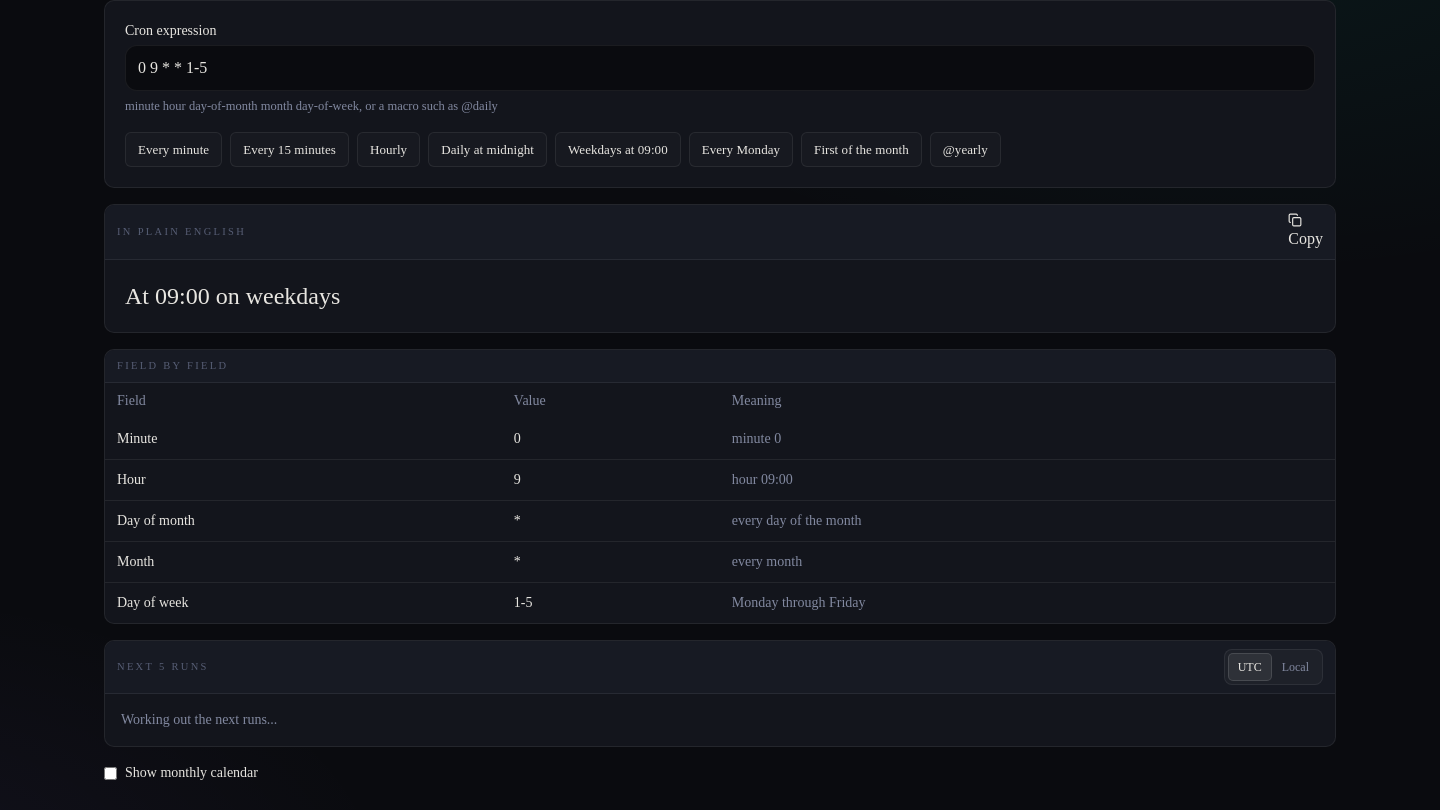
CronExplainerClient › errors › says how many fields it found
The width and height of the screenshot is (1440, 810).
Replace the text in the field labelled "Cron expression" with "* * * *" at (720, 68), box top-left (125, 45), bottom-right (1315, 91)
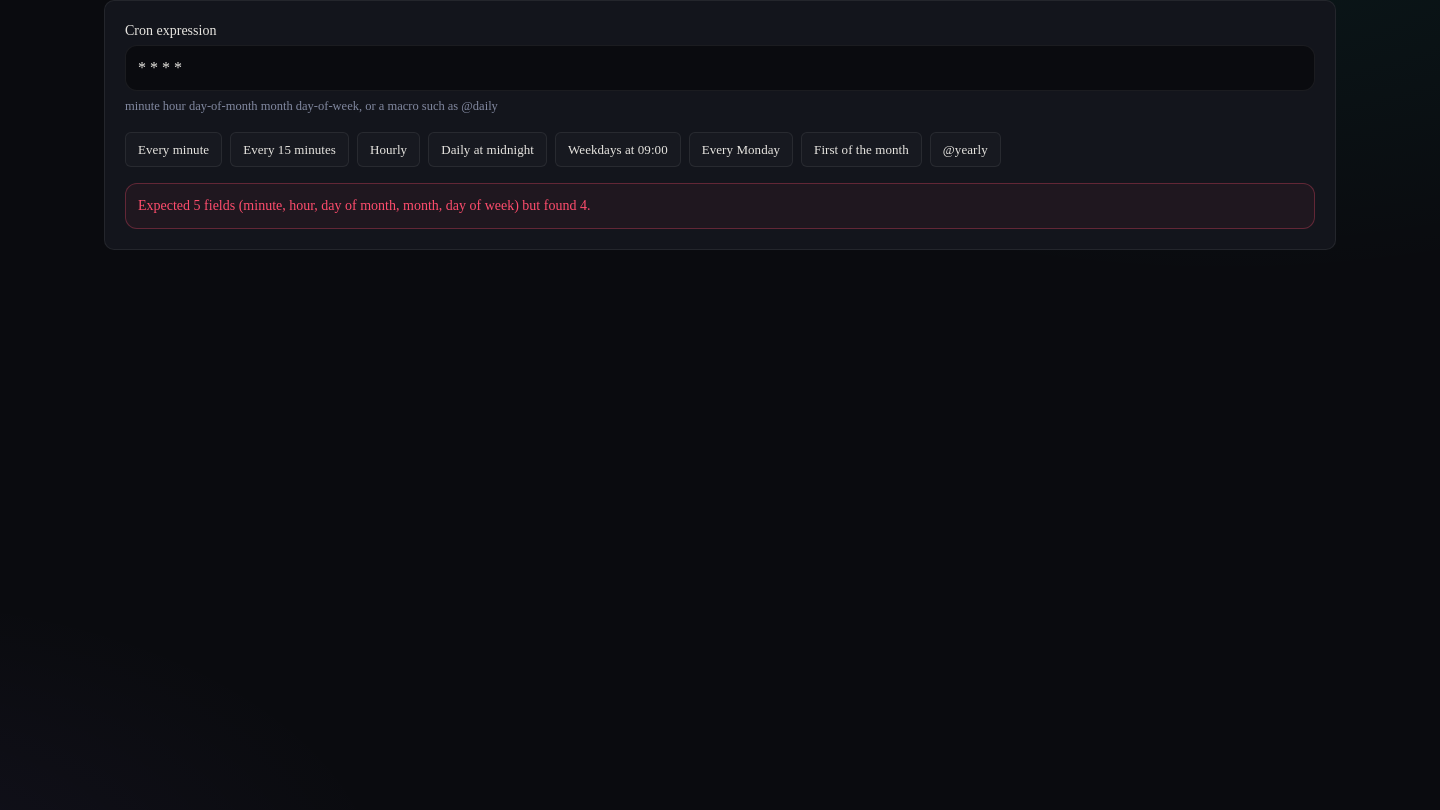
Check: the message shows "found 4", box top-left (138, 198), bottom-right (590, 213)
